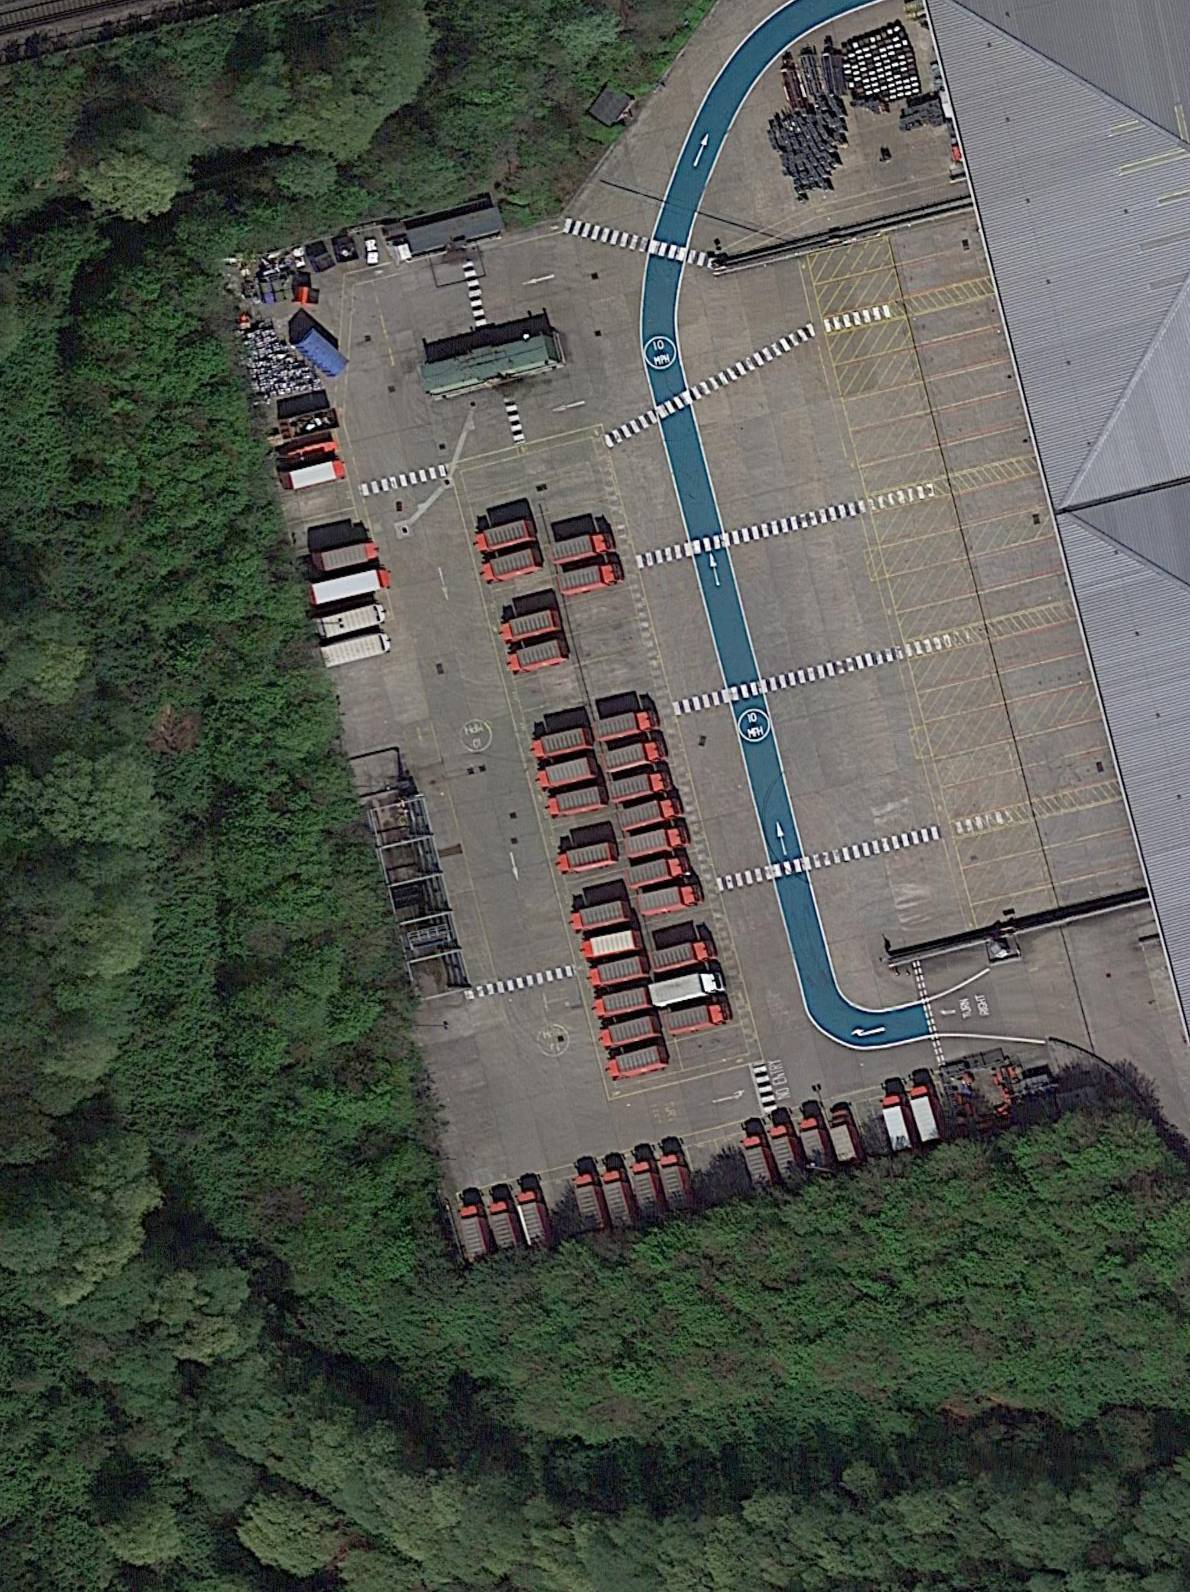large vehicle: (306, 564, 392, 609), (649, 968, 729, 1011), (311, 600, 389, 644), (512, 1186, 560, 1255), (477, 544, 547, 590), (317, 630, 395, 671), (766, 1118, 811, 1188), (572, 1168, 616, 1240), (825, 1105, 871, 1171), (472, 515, 540, 560), (495, 606, 566, 649), (629, 1155, 672, 1223), (662, 997, 735, 1038), (657, 1148, 700, 1218), (600, 1165, 644, 1232), (554, 560, 626, 600), (740, 1130, 784, 1196), (797, 1112, 841, 1178), (532, 754, 602, 795), (591, 704, 661, 745), (484, 1197, 529, 1261), (647, 936, 719, 976), (622, 822, 691, 863), (616, 794, 685, 835), (527, 724, 597, 764), (635, 880, 705, 920), (546, 530, 617, 569), (584, 953, 652, 993), (555, 838, 624, 878), (600, 737, 669, 777), (502, 637, 575, 675), (597, 1012, 665, 1052), (570, 897, 637, 937), (457, 1202, 499, 1266), (606, 1043, 671, 1083), (626, 852, 691, 892), (312, 539, 382, 575), (607, 769, 675, 806), (592, 983, 655, 1023), (577, 927, 646, 963), (280, 459, 349, 495), (544, 784, 610, 821), (879, 1092, 915, 1155), (907, 1083, 944, 1145)
